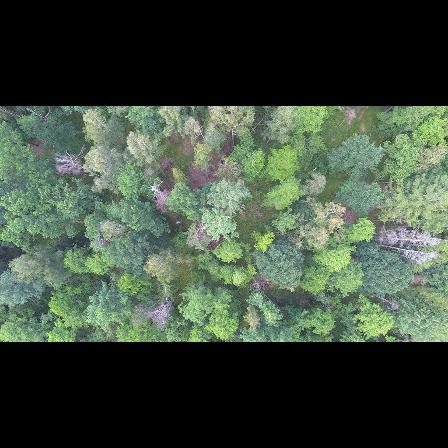Dead: (53, 149, 102, 180), (377, 243, 440, 264), (150, 288, 172, 334), (397, 227, 448, 243), (371, 233, 440, 244), (148, 183, 175, 210)
